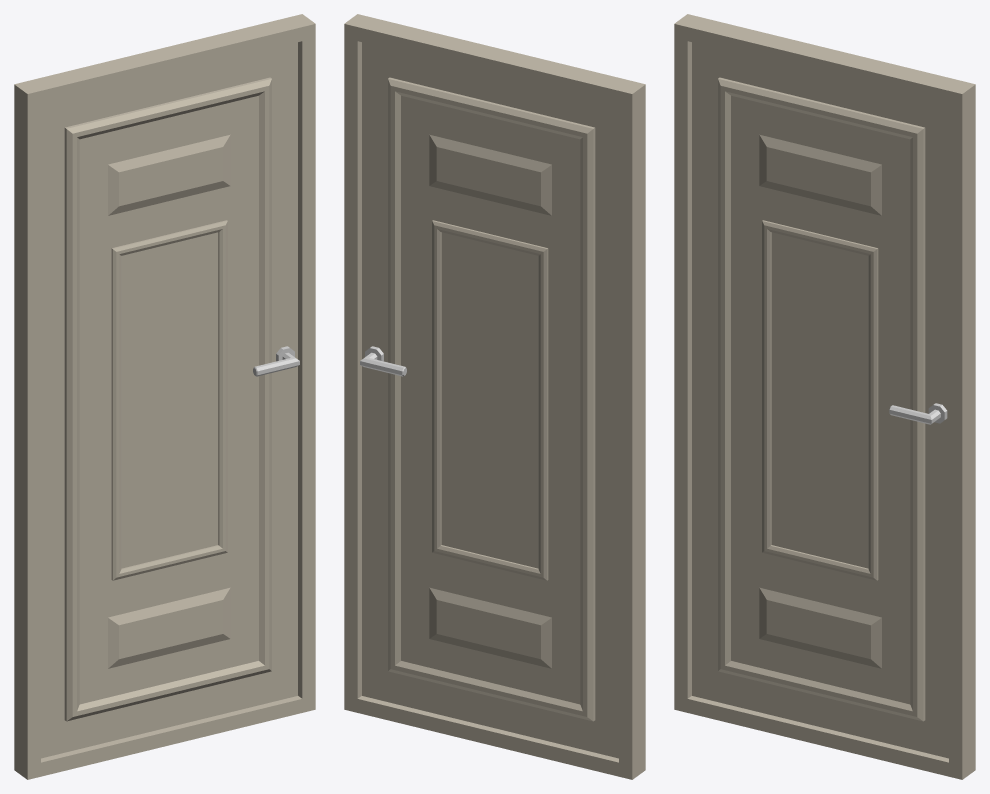
Rendered from Mesh_Door_C02.fbx.
The picture shows the model from 3 angles, left to right: view 1: azimuth 30°, elevation 25°; view 2: azimuth 150°, elevation 25°; view 3: azimuth 330°, elevation 25°; orthographic projection.
Visible parts, largest first — view 1: Mesh_Door_C02; view 2: Mesh_Door_C02; view 3: Mesh_Door_C02.
Part boxes in pixels (x1,y1,x2,y2): Mesh_Door_C02: (14, 14, 315, 779); Mesh_Door_C02: (344, 14, 645, 779); Mesh_Door_C02: (674, 14, 975, 779).
Size of the model in its own units: 0.9 by 2.05 by 0.1524.
